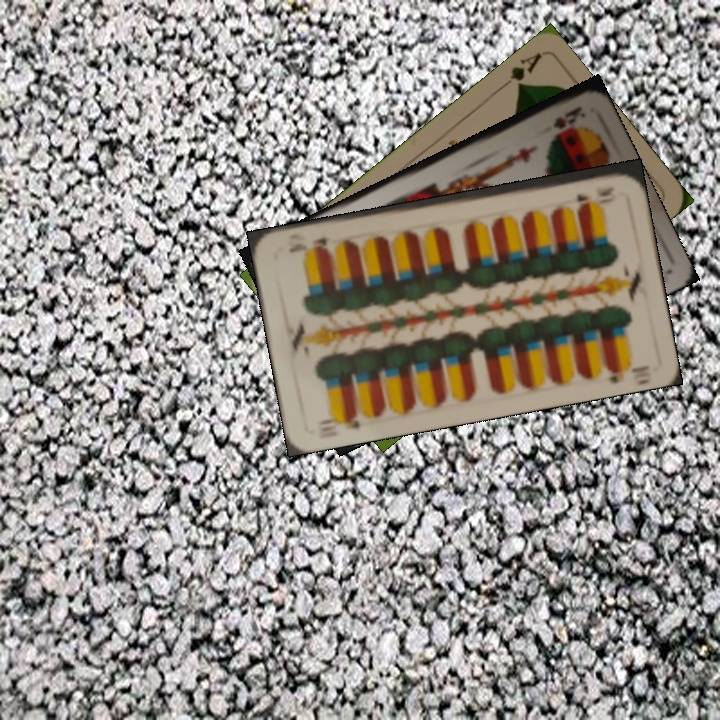E10: (316, 408, 362, 432), (572, 182, 617, 205)
GA: (494, 48, 544, 94)
SK: (548, 102, 589, 131)
